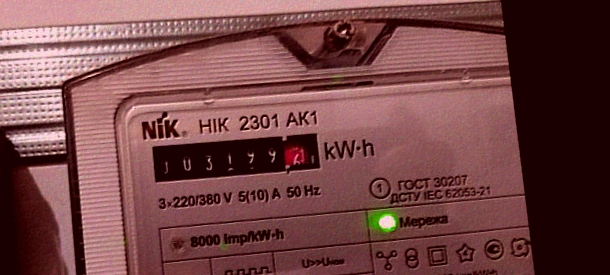0: (156, 153, 170, 176), (179, 151, 193, 172)
1: (222, 145, 235, 166)
3: (201, 151, 214, 171)
6: (290, 149, 302, 166)
9: (243, 144, 257, 165), (264, 143, 278, 163)
screen: (143, 120, 330, 196)
